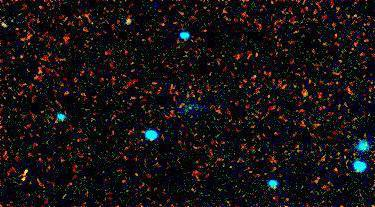star: (289, 79, 319, 109)
